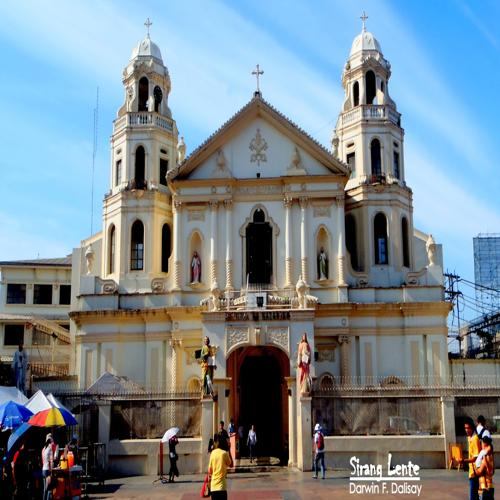Quiapo Church: (64, 7, 455, 452)
